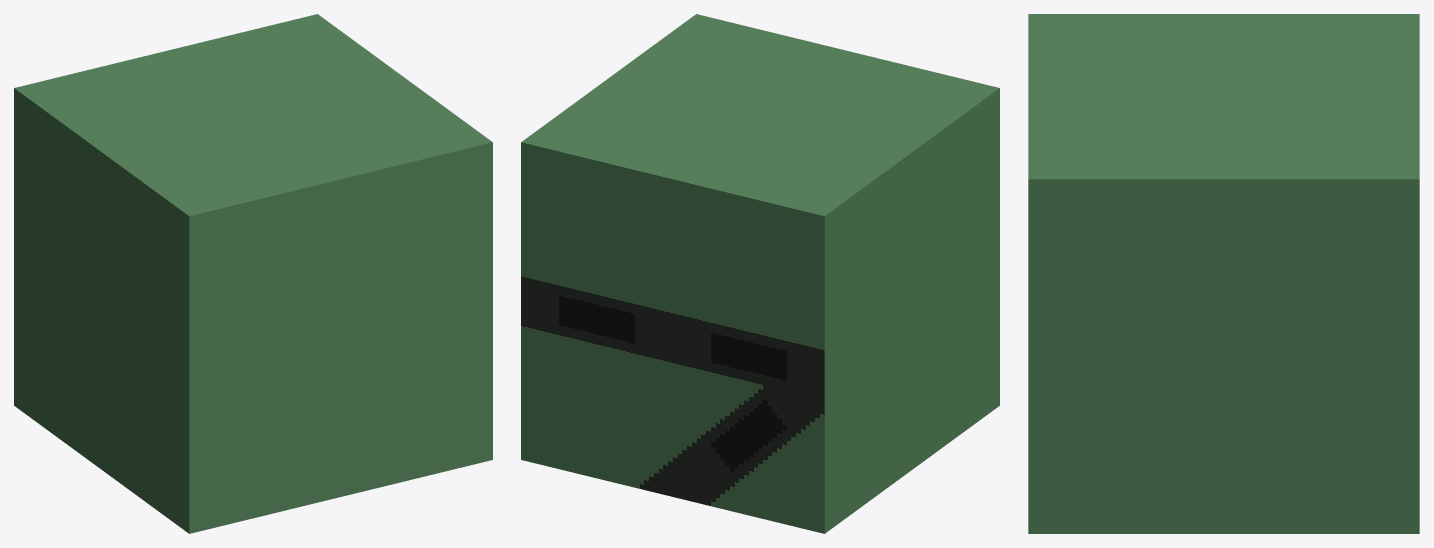
Rendered from trackswitch.obj.
The picture shows the model from 3 angles, left to right: view 1: azimuth 30°, elevation 25°; view 2: azimuth 150°, elevation 25°; view 3: azimuth 270°, elevation 25°; orthographic projection. The views are drawn at different scales.
Visible parts, largest first — view 1: generalCube.001, off.001; view 2: generalCube.001, off.001; view 3: generalCube.001, off.001.
Boxes of the visible parts, x1=… form: generalCube.001: x1=19, y1=18, x2=492, y2=533; off.001: x1=14, y1=14, x2=327, y2=413; generalCube.001: x1=527, y1=14, x2=999, y2=525; off.001: x1=521, y1=134, x2=835, y2=533; generalCube.001: x1=1028, y1=14, x2=1407, y2=533; off.001: x1=1395, y1=14, x2=1419, y2=533.
Size of the model in its own units: 1 by 1 by 1.
Materials: 8 (7 with a texture image).
